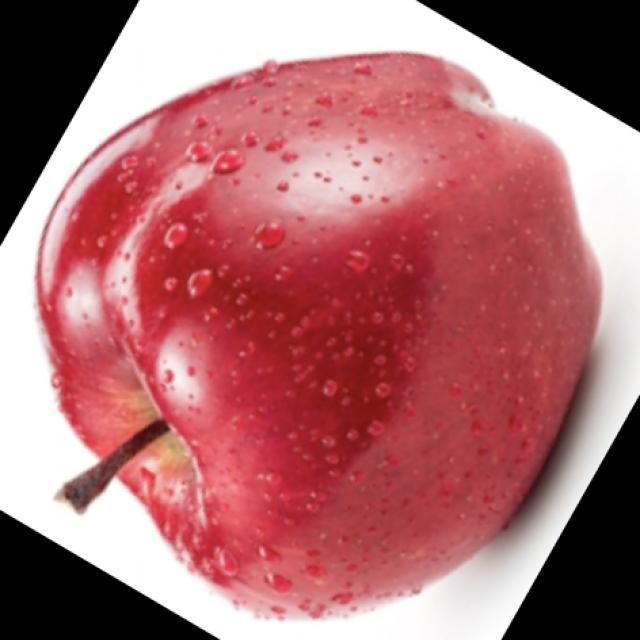Fresh Apple: (33, 41, 612, 628)
